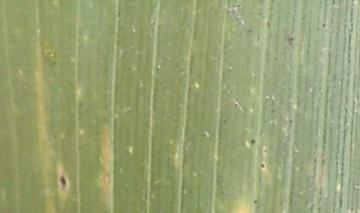tarspot: (57, 174, 69, 187), (249, 138, 258, 146), (259, 161, 265, 169), (321, 22, 327, 29), (252, 199, 258, 203)
